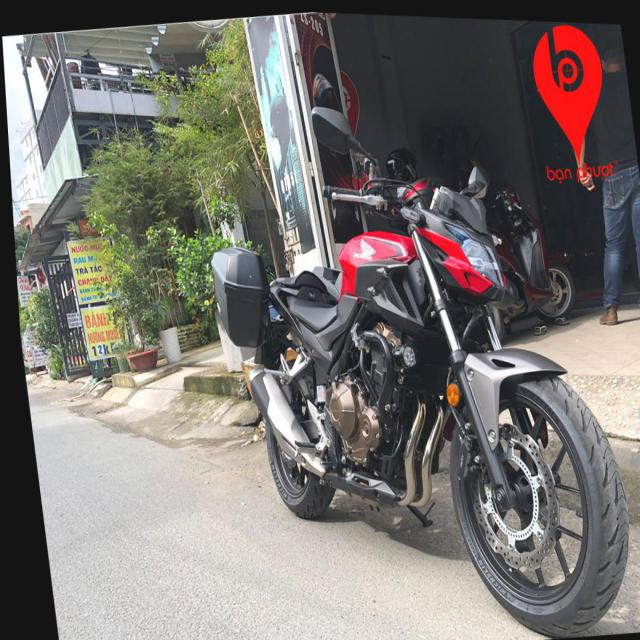CB500F: (186, 70, 639, 639)
